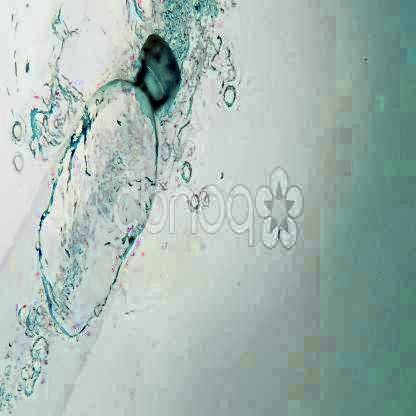pbottle: (0, 11, 182, 416)
